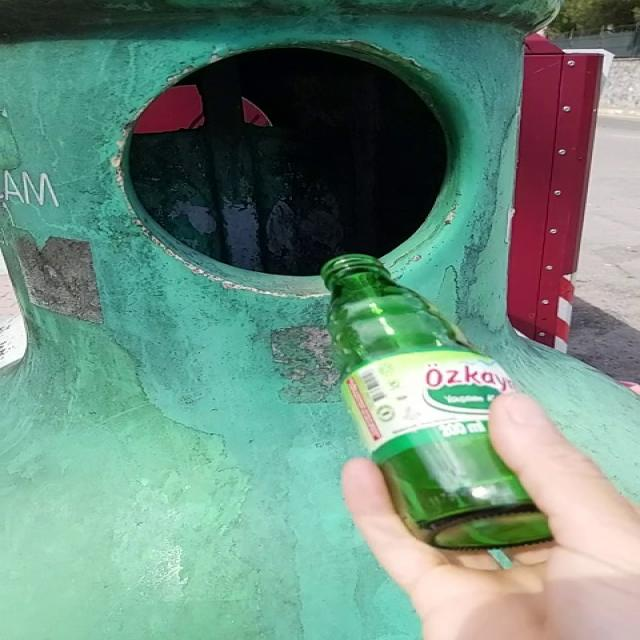glass: (321, 255, 553, 550)
